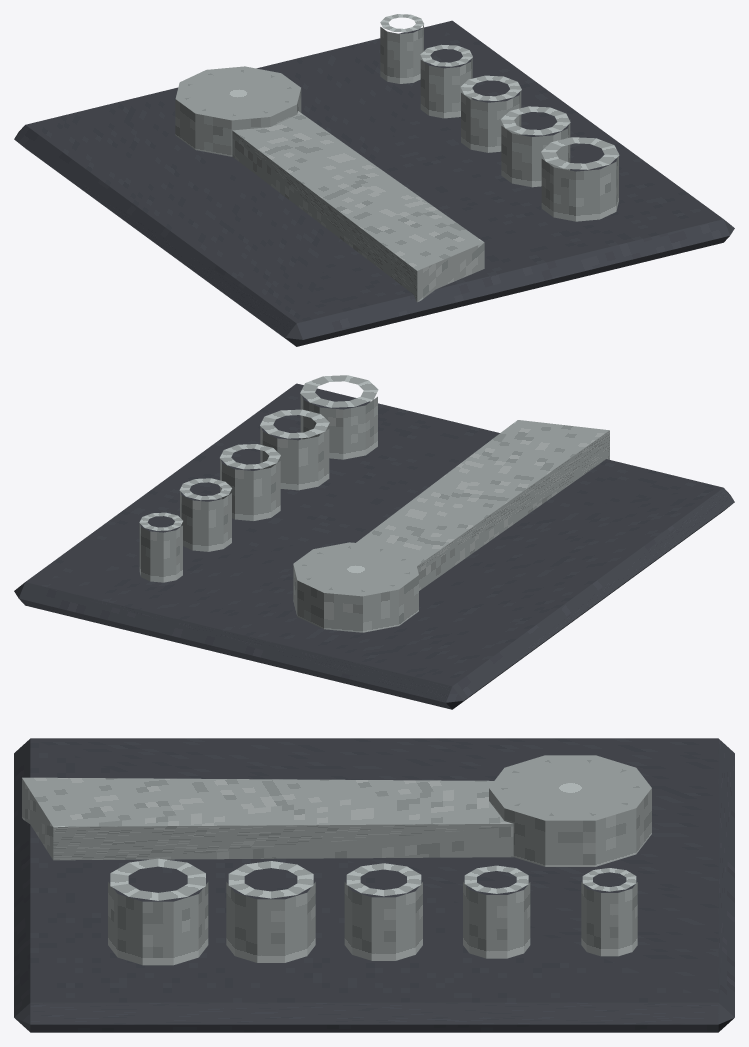
Rendered from socket_wrench_set.glb.
3 renders of one model, top to bottom at view 1: azimuth 30°, elevation 25°; view 2: azimuth 150°, elevation 25°; view 3: azimuth 270°, elevation 25°, orthographic. The views are drawn at different scales.
Visible parts, largest first — view 1: block_socket tray, block_wrench handle, block_loose socket (×5), block_ratchet drive; view 2: block_socket tray, block_wrench handle, block_loose socket (×5), block_ratchet drive; view 3: block_socket tray, block_wrench handle, block_loose socket (×5), block_ratchet drive.
Part boxes in pixels (bbox=[...]): block_socket tray: bbox=[14, 20, 734, 346]; block_wrench handle: bbox=[232, 111, 484, 302]; block_loose socket (×5): bbox=[380, 25, 618, 221]; block_ratchet drive: bbox=[175, 66, 301, 156]; block_socket tray: bbox=[14, 383, 734, 709]; block_wrench handle: bbox=[356, 420, 609, 590]; block_loose socket (×5): bbox=[139, 390, 377, 582]; block_ratchet drive: bbox=[293, 542, 418, 632]; block_socket tray: bbox=[14, 738, 734, 1032]; block_wrench handle: bbox=[22, 777, 513, 860]; block_loose socket (×5): bbox=[108, 882, 637, 965]; block_ratchet drive: bbox=[489, 755, 651, 866].
Size of the model in its own units: 0.2283 by 0.0364 by 0.25.
Materials: 1 (1 with a texture image).
